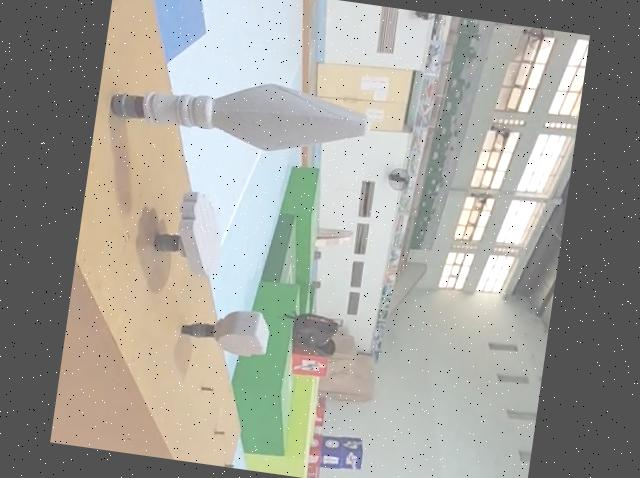Fist: (178, 302, 278, 364)
Hand: (146, 187, 233, 284)
Sph: (101, 62, 375, 168)
